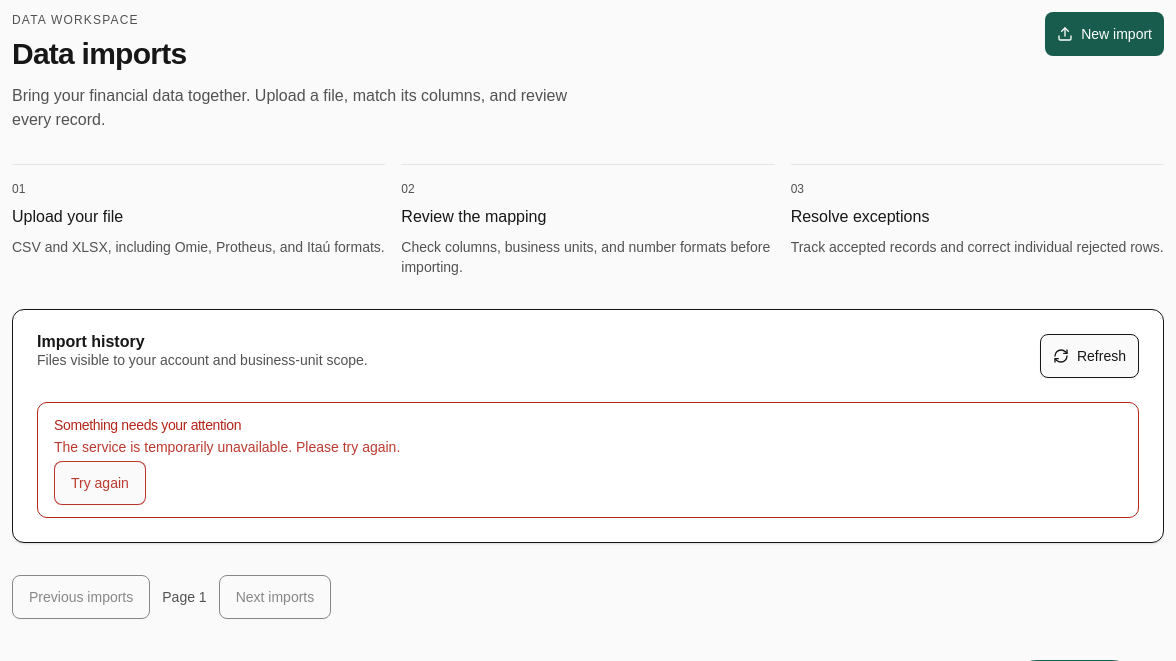
shows the first-import empty state and recovers a failed history request
Check: the message is shown, box [37, 402, 1139, 518]
Click the button "Try again".
click(100, 483)  # box [54, 461, 146, 505]
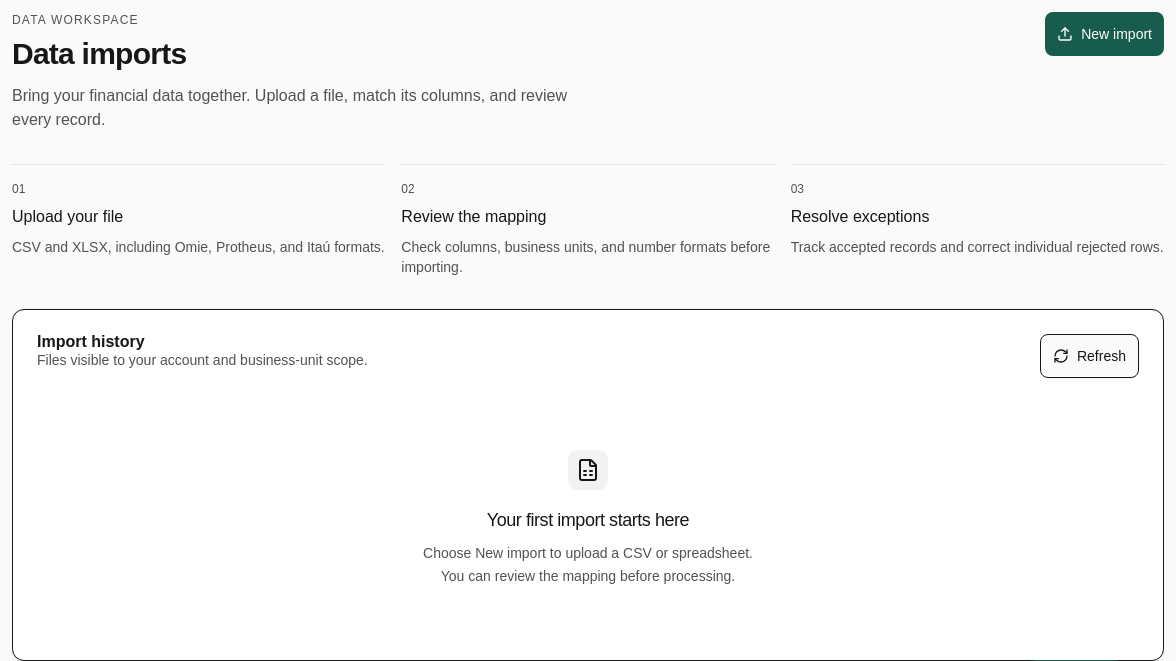
Check: the text "Your first import starts here" is shown, box [487, 506, 689, 534]
